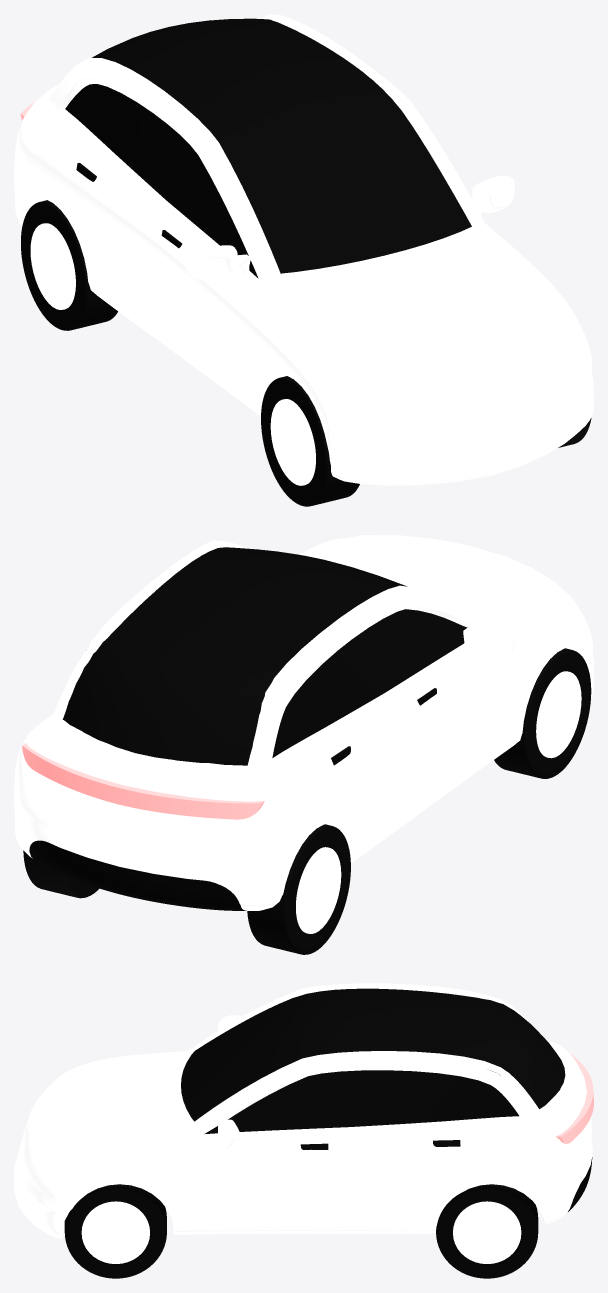
Rendered from uberXL.glb.
3 views of the same model, one above another, from view 1: azimuth 30°, elevation 25°; view 2: azimuth 150°, elevation 25°; view 3: azimuth 270°, elevation 25° (orthographic). The views are drawn at different scales.
Visible parts, largest first — view 1: Node6, Node2, Node13, Node9, Node5, Node12, Node8, Node1; view 2: Node6, Node2, Node7, Node13, Node4, Node9, Node8, Node12, Node5, Node15; view 3: Node6, Node2, Node15, Node10, Node14, Node11, Node4, Node5, Node1.
Boxes of the visible parts, x1,y1,x2,y2 form: Node6: (14,14,593,485); Node2: (65,18,471,278); Node13: (21,200,117,330); Node9: (261,376,359,506); Node5: (185,175,514,280); Node12: (30,223,75,309); Node8: (270,399,315,485); Node1: (353,328,576,392); Node6: (14,535,593,910); Node2: (62,547,467,765); Node7: (29,840,246,910); Node13: (247,824,350,954); Node4: (22,743,264,819); Node9: (494,648,591,778); Node8: (536,671,581,758); Node12: (296,847,341,933); Node5: (463,619,515,660); Node15: (23,850,99,898); Node6: (14,983,592,1238); Node2: (181,988,565,1134); Node15: (436,1184,538,1278); Node10: (64,1184,166,1278); Node14: (453,1201,521,1263); Node11: (81,1201,149,1263); Node4: (556,1053,593,1143); Node5: (218,1015,241,1151); Node1: (28,1090,61,1166).
Size of the model in its own units: 50.02 by 40.94 by 99.8.
